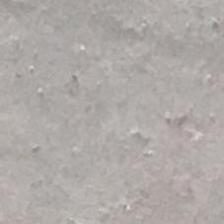Non_Crack: (13, 10, 224, 224)
